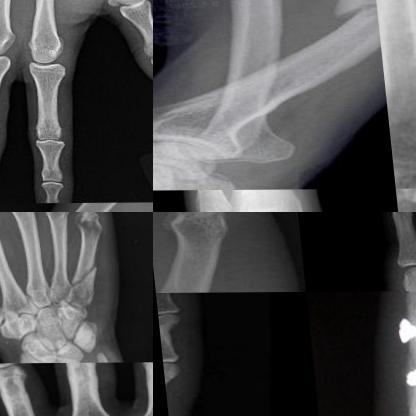fracture: (383, 313, 415, 415), (61, 260, 99, 298), (158, 358, 181, 410), (33, 197, 57, 202)
